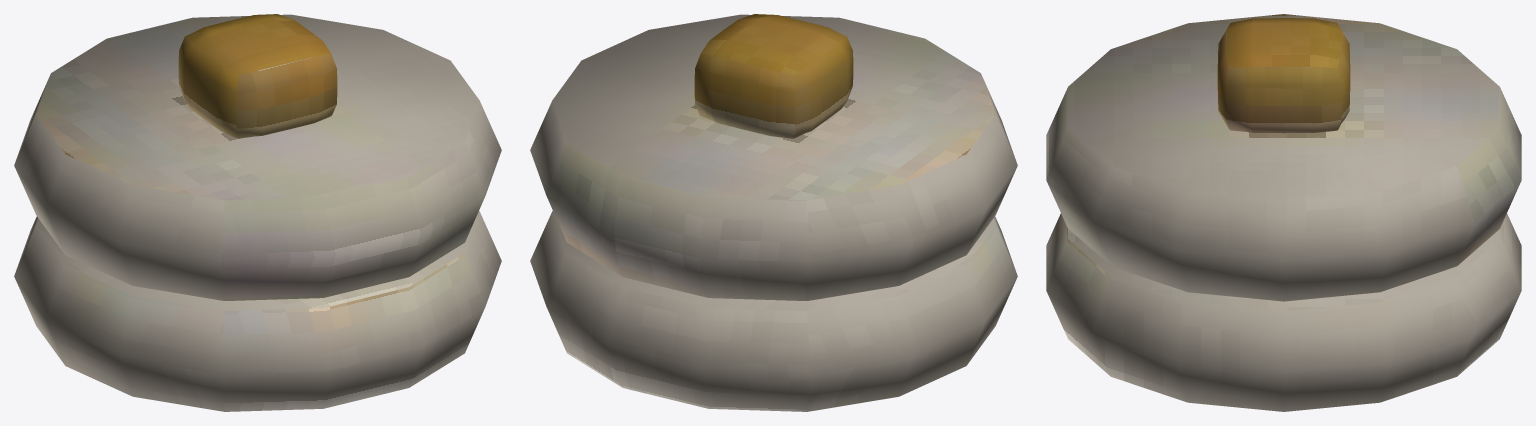
Rendered from pellet_hotcake.glb.
3 renders of one model, left to right at view 1: azimuth 30°, elevation 25°; view 2: azimuth 150°, elevation 25°; view 3: azimuth 270°, elevation 25°, orthographic.
Parts seen in each view (by area): view 1: prop_pellet_hotcake_felt; view 2: prop_pellet_hotcake_felt; view 3: prop_pellet_hotcake_felt.
Part boxes in pixels (x1,y1,x2,y2): prop_pellet_hotcake_felt: (14, 14, 501, 411); prop_pellet_hotcake_felt: (530, 14, 1017, 411); prop_pellet_hotcake_felt: (1046, 14, 1521, 411).
Size of the model in its own units: 0.066 by 0.042 by 0.0643.
1 material, 1 textured.
